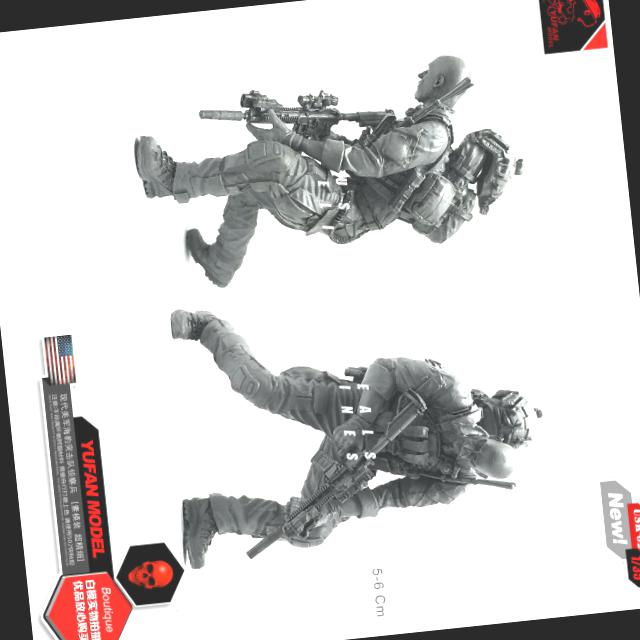long weapon: (225, 397, 436, 566), (208, 65, 402, 166)
